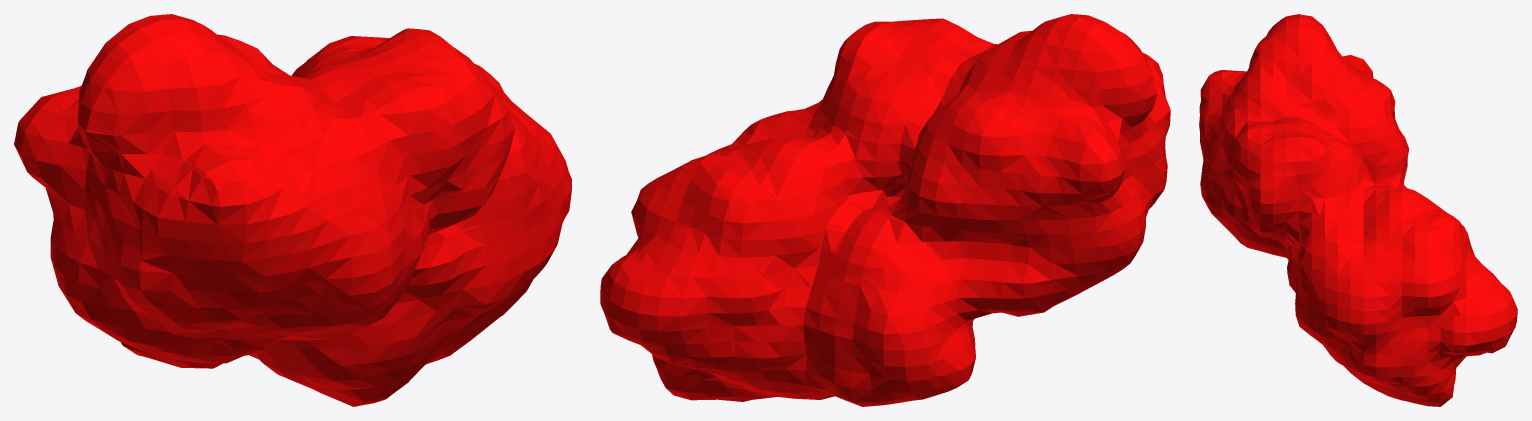
The model's file is ybfF_coarse.dae.
3 views of the same model, side by side, from view 1: azimuth 30°, elevation 25°; view 2: azimuth 150°, elevation 25°; view 3: azimuth 270°, elevation 25° (orthographic). The views are drawn at different scales.
Parts seen in each view (by area): view 1: ybfF; view 2: ybfF; view 3: ybfF.
Boxes of the visible parts, x1,y1,x2,y2 form: ybfF: (14, 14, 571, 406); ybfF: (600, 14, 1170, 406); ybfF: (1199, 14, 1517, 406).
Bounding box in the file's own units: 78.43 × 66.03 × 67.08.
